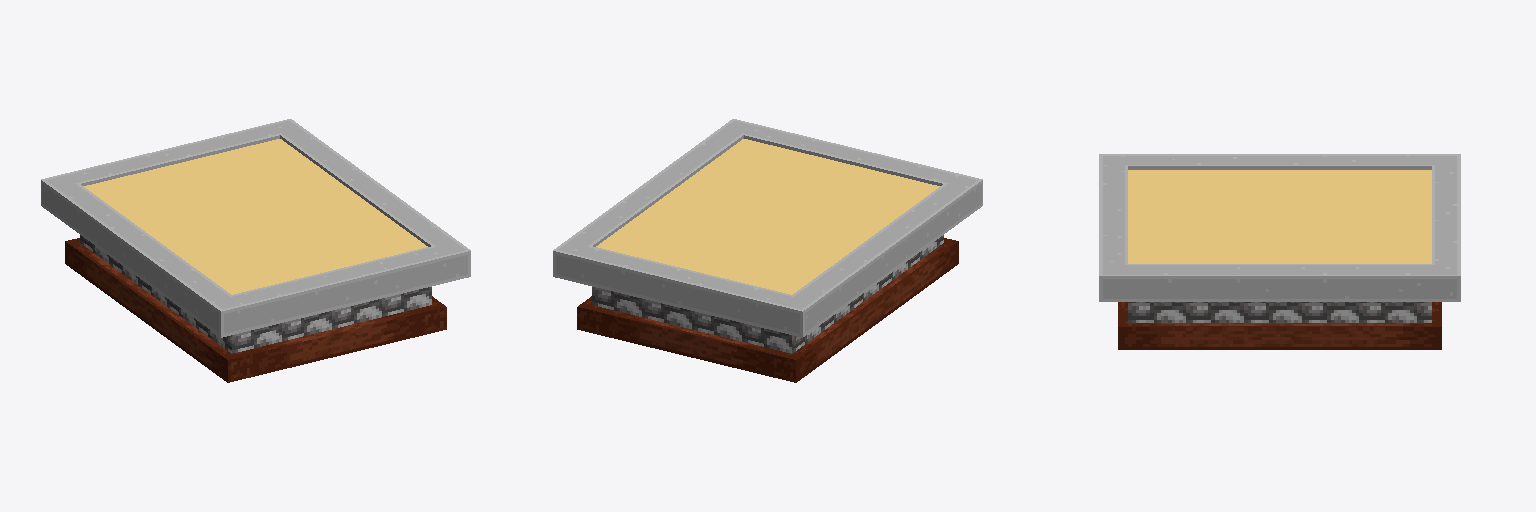
3 renders of one model, left to right at view 1: azimuth 30°, elevation 25°; view 2: azimuth 150°, elevation 25°; view 3: azimuth 270°, elevation 25°, orthographic.
Parts seen in each view (by area): view 1: cuboid; view 2: cuboid; view 3: cuboid.
Boxes of the visible parts, x1=… form: cuboid: x1=41, y1=119, x2=470, y2=382; cuboid: x1=553, y1=119, x2=982, y2=382; cuboid: x1=1099, y1=154, x2=1460, y2=349.
Size of the model in its own units: 5 by 1.56 by 6.25.
1 materials, 1 textured.